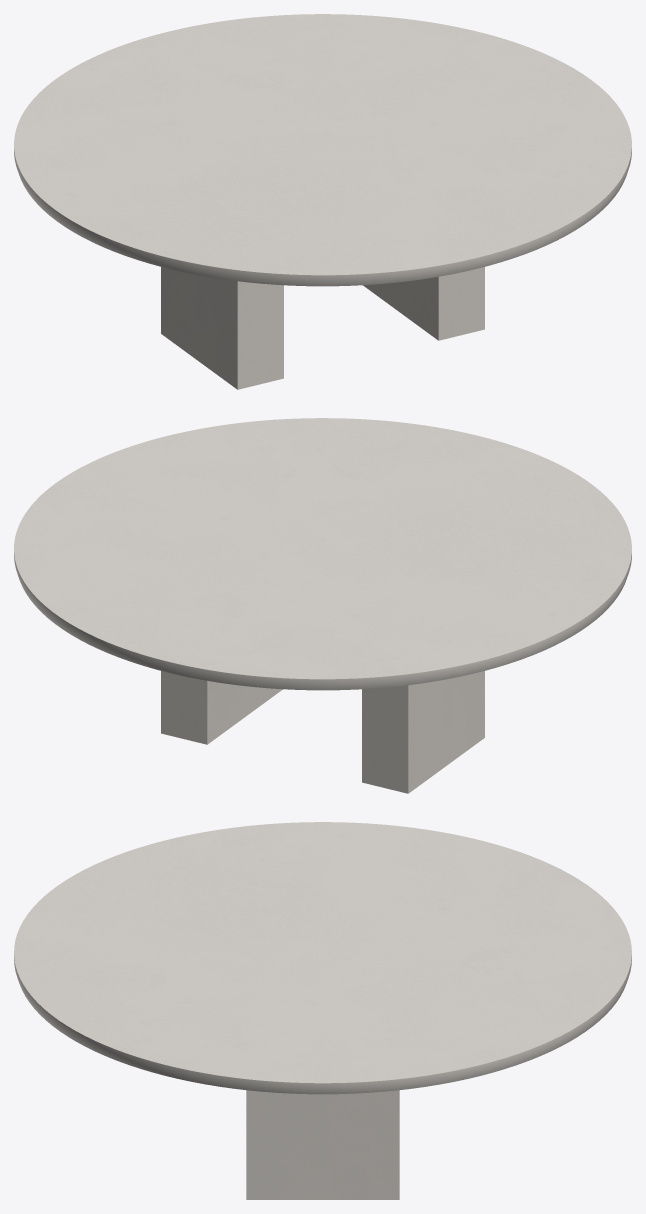
The model's file is pearlwhite_round_facet_ridge.glb.
3 views of the same model, one above another, from view 1: azimuth 30°, elevation 25°; view 2: azimuth 150°, elevation 25°; view 3: azimuth 270°, elevation 25° (orthographic).
Visible parts, largest first — view 1: tabletop_round_facet.003, tableleg_ridge.016; view 2: tabletop_round_facet.003, tableleg_ridge.016; view 3: tabletop_round_facet.003, tableleg_ridge.016.
Part boxes in pixels (<box>): tabletop_round_facet.003: <box>14,14,631,286</box>; tableleg_ridge.016: <box>161,267,484,389</box>; tabletop_round_facet.003: <box>14,418,631,690</box>; tableleg_ridge.016: <box>161,671,484,793</box>; tabletop_round_facet.003: <box>14,822,631,1094</box>; tableleg_ridge.016: <box>246,1090,399,1199</box>.
Bounding box in the file's own units: 7.5 × 2.5 × 7.5.
Materials: 1 (1 with a texture image).
